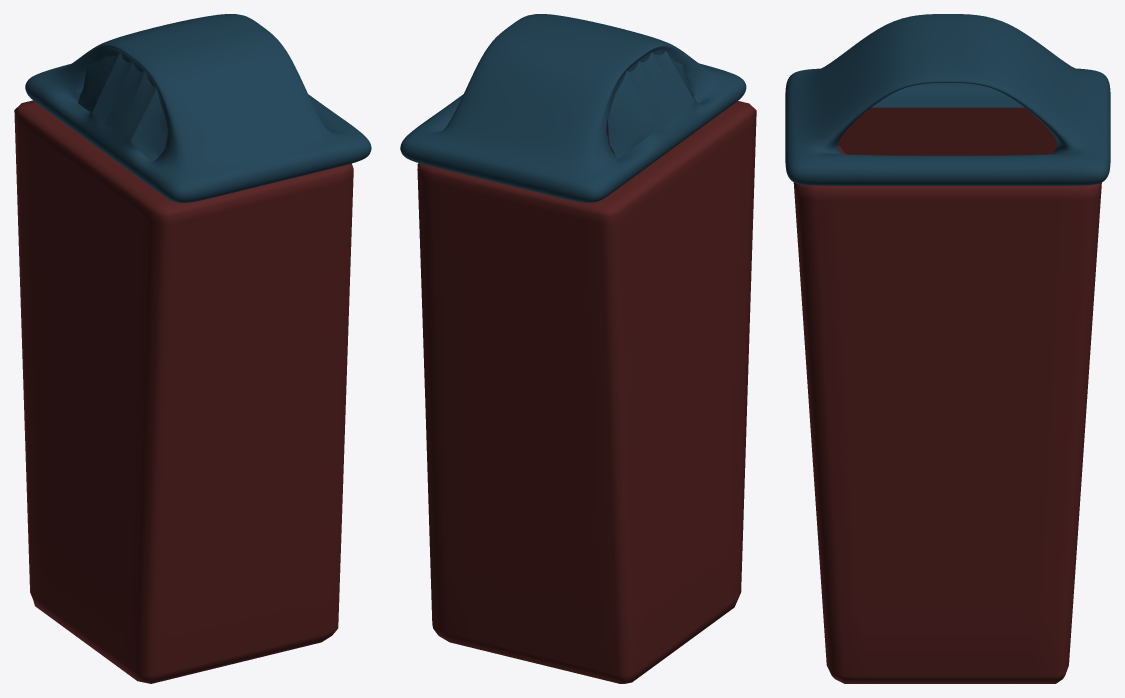
File: trashcan .fbx
3 renders of one model, left to right at view 1: azimuth 30°, elevation 25°; view 2: azimuth 150°, elevation 25°; view 3: azimuth 270°, elevation 25°, orthographic. The views are drawn at different scales.
Visible parts, largest first — view 1: pCube1, pCube4; view 2: pCube1, pCube4; view 3: pCube1, pCube4.
Part boxes in pixels (x1,y1,x2,y2): pCube1: (14,100,353,683); pCube4: (25,14,371,202); pCube1: (417,101,756,683); pCube4: (400,14,746,202); pCube1: (793,107,1101,683); pCube4: (785,14,1110,185).
Bounding box in the file's own units: 1.89 × 4.9 × 2.4.
Materials: 1 (1 with a texture image).
